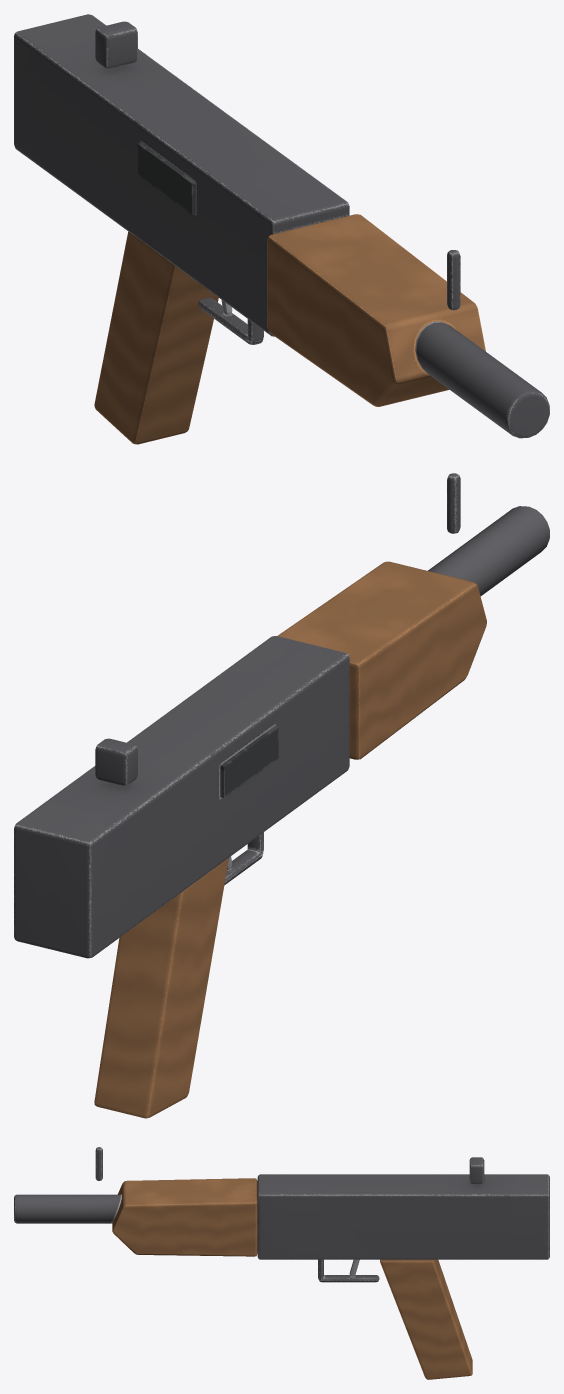
File: sawedoff.fbx
3 views of the same model, one above another, from view 1: azimuth 30°, elevation 25°; view 2: azimuth 150°, elevation 25°; view 3: azimuth 270°, elevation 25° (orthographic). The views are drawn at different scales.
Visible parts, largest first — view 1: sawedoff; view 2: sawedoff; view 3: sawedoff.
Boxes of the visible parts, x1,y1,x2,y2 form: sawedoff: (14,14,549,444); sawedoff: (14,473,549,1118); sawedoff: (14,1147,549,1379).
Size of the model in its own units: 0.05 by 0.2045 by 0.44.
